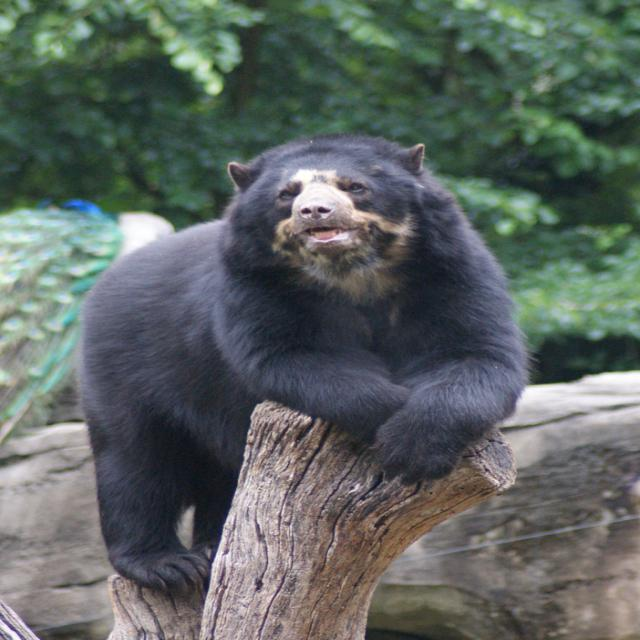Buffalo: (70, 132, 538, 595)
